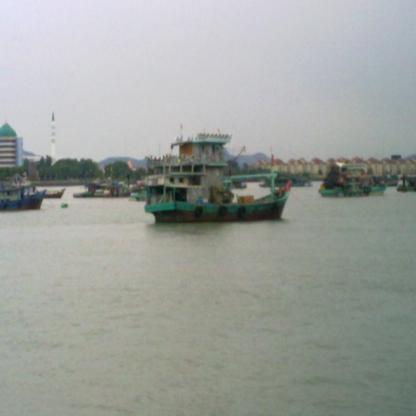fishing boat: (132, 182, 298, 222), (322, 178, 385, 199), (1, 186, 44, 211)
